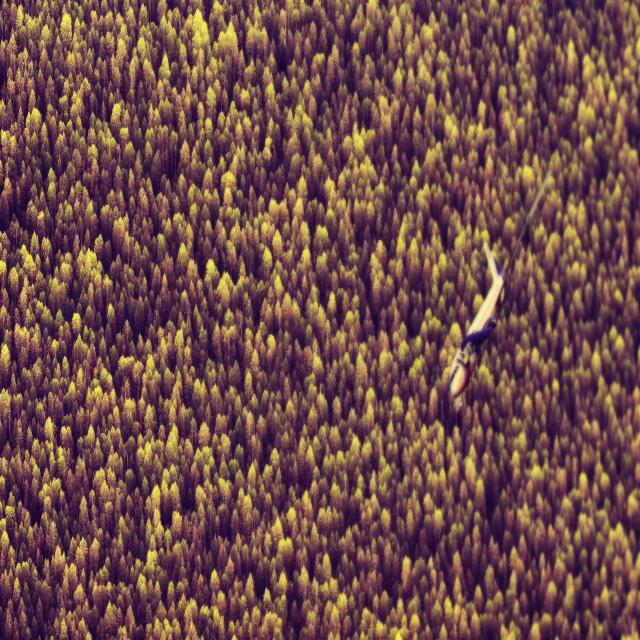airplane: (447, 161, 553, 410)
